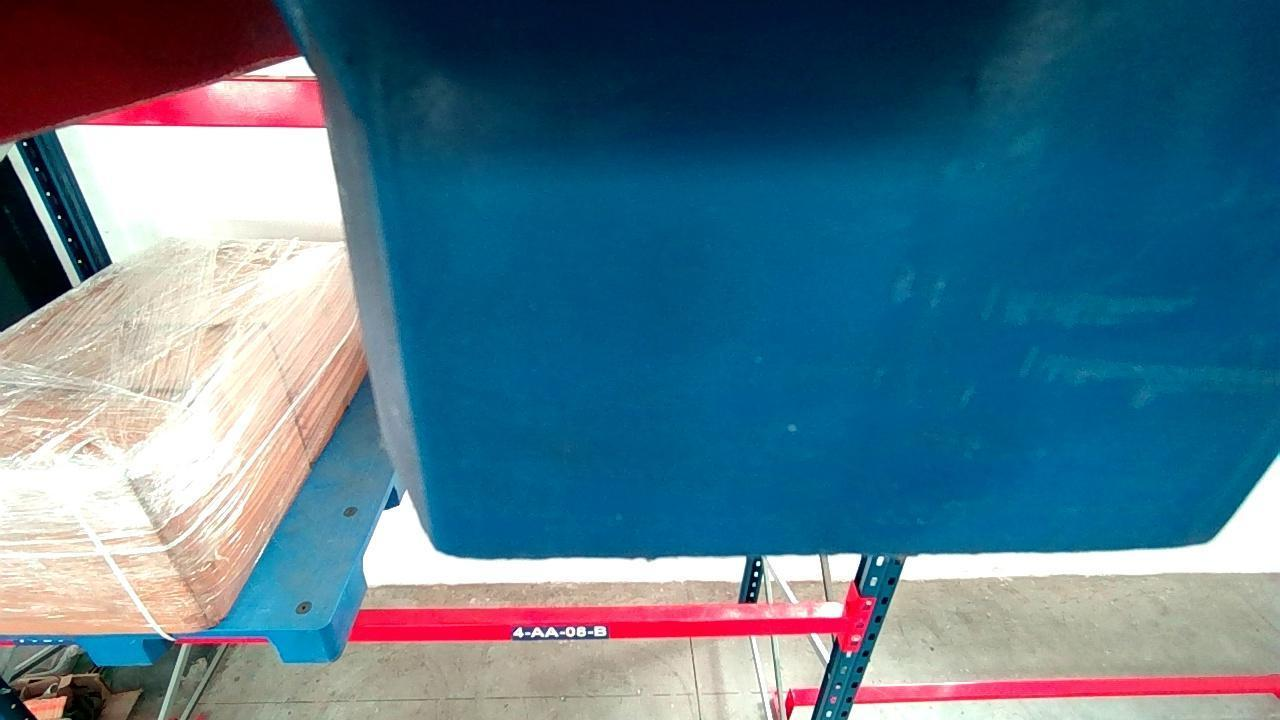h_rack: (348, 616, 854, 646)
small_pallet: (0, 624, 328, 670)
